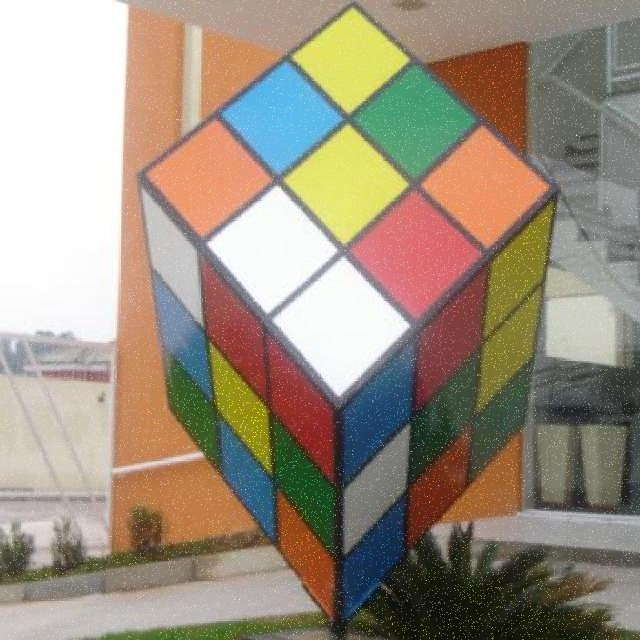stair: (531, 128, 640, 322)
